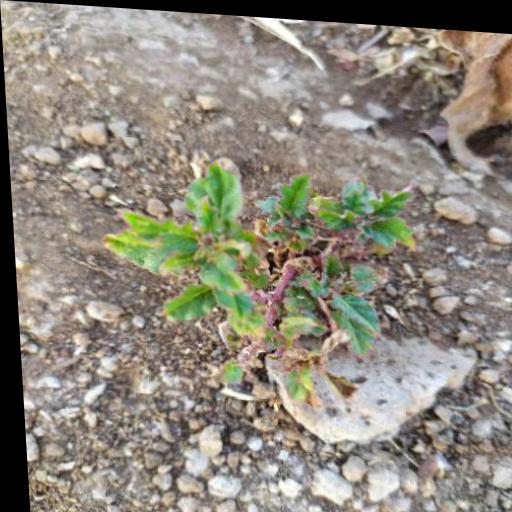weed: (91, 145, 433, 398)
